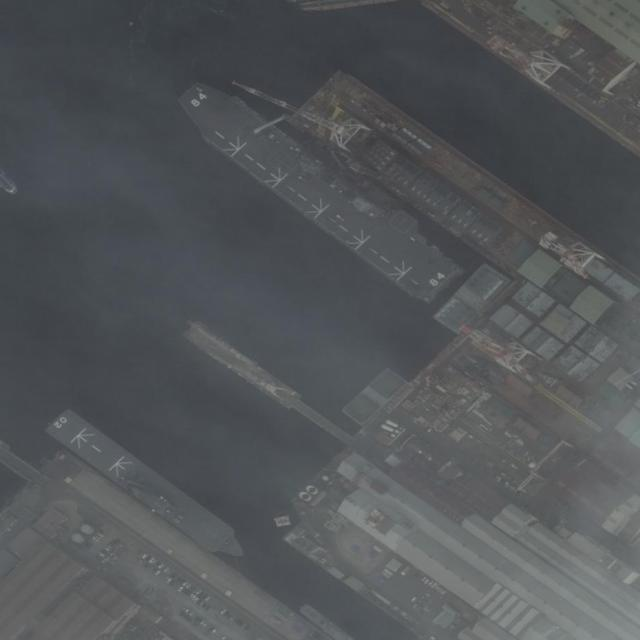Destroyer: (173, 71, 459, 309)
Dock: (177, 314, 354, 450)
Landing: (46, 405, 251, 568)
